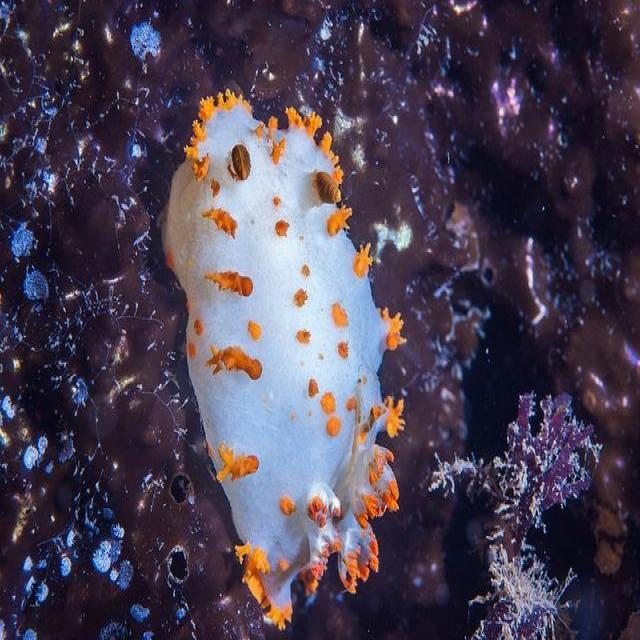reefs: (157, 91, 408, 632)
